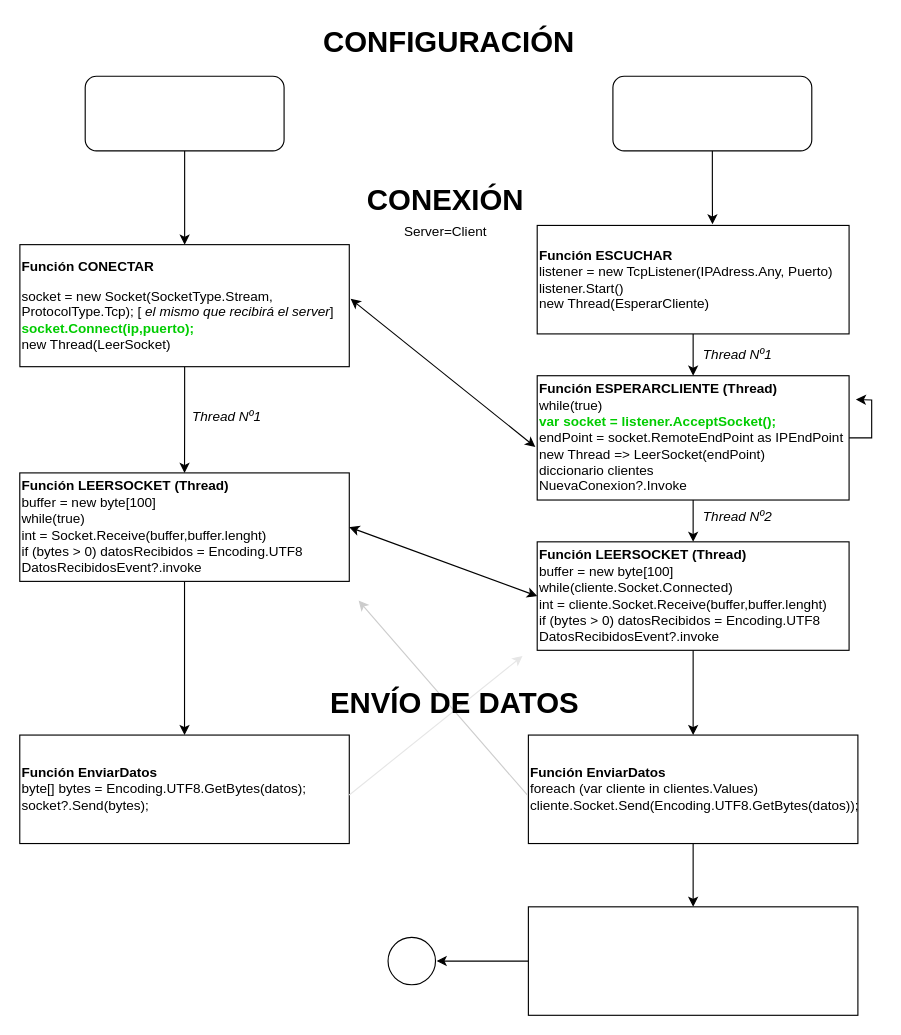
Some shapes in this 901 by 1035 pixel diagram are drawn without their labels. Here are the shapes that lost their labels. From the top down, the centre of each, then its label:
the point at 184,113: Configuración: - Puerto del servidor (escucha) - Dirección IP
the point at 712,113: Configuración: - Puerto de escucha
the point at 692,960: Función Cerrar foreach (var cliente in clientes.Values) cliente.Socket.Close();
